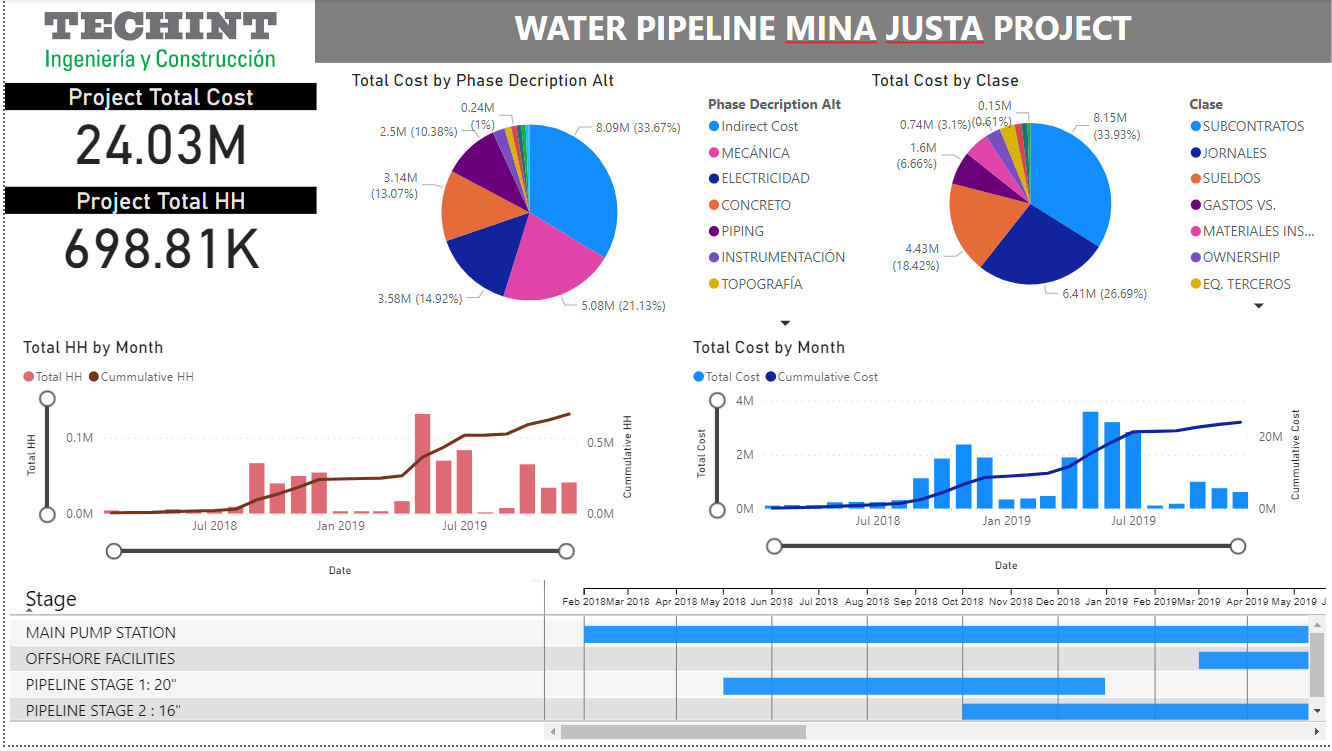

The page's visual inventory and layout, read from the dashboard file:
{"tool":"powerbi","page":{"name":"Executive Report","canvas":[1280,720],"ordinal":0},"visuals":[{"type":"pieChart","fields":{"Y":["MJ_Entries.Total Cost"],"Category":["MJ_Phases.Phase Decription Alt"]},"box":[329.2,67.5,501.7,258.1],"z":0},{"type":"pieChart","fields":{"Y":["MJ_Entries.Total Cost"],"Category":["MJ_Items.Clase"]},"box":[831,67.5,448.6,241.2],"z":1000},{"type":"card","title":"Project Total Cost","fields":{"Values":["MJ_Entries.Total Cost"]},"box":[0,81,300.8,100.3],"z":2000},{"type":"GanttChartByMAQSoftware1448688115701","fields":{"EndDate":["Min(MJ_Schedule.Fecha Fin)"],"StartDate":["Min(MJ_Schedule.Fecha Inicio)"],"Category":["MJ_Schedule.Stage"]},"box":[0,525.8,1279.6,194.2],"z":3000},{"type":"card","title":"Project Total HH","fields":{"Values":["MJ_Entries.Total HH"]},"box":[0,181.3,300.8,100.3],"z":4000},{"type":"lineClusteredColumnComboChart","title":"Total HH by Month","fields":{"Category":["MJ_Calendar.Fecha"],"Y":["MJ_Entries.Total HH"],"Y2":["MJ_Entries.Cummulative HH"]},"box":[12.1,325.6,599.4,235.2],"z":5000},{"type":"lineClusteredColumnComboChart","title":"Total Cost by Month","fields":{"Category":["MJ_Calendar.Fecha"],"Y":["MJ_Entries.Total Cost"],"Y2":["MJ_Entries.Cummulative Cost"]},"box":[658.5,325.6,598.2,230.4],"z":6000},{"type":"image","box":[0,0,299.4,81],"z":7000},{"type":"textbox","box":[299.1,0,980.5,61.5],"z":8000}]}

Visuals, with their boxes in screenshot pixels (x1, y1, x2, y2), scaled from the page's 1280x720 canvas onto the 1332x751 screenshot:
pieChart - MJ_Entries.Total Cost x MJ_Phases.Phase Decription Alt: pyautogui.locateOnScreen(343, 70, 865, 340)
pieChart - MJ_Entries.Total Cost x MJ_Items.Clase: pyautogui.locateOnScreen(865, 70, 1331, 322)
"Project Total Cost" card: pyautogui.locateOnScreen(0, 84, 313, 189)
GanttChartByMAQSoftware1448688115701 - Min(MJ_Schedule.Fecha Fin) x Min(MJ_Schedule.Fecha Inicio): pyautogui.locateOnScreen(0, 548, 1331, 750)
"Project Total HH" card: pyautogui.locateOnScreen(0, 189, 313, 294)
"Total HH by Month" lineClusteredColumnComboChart: pyautogui.locateOnScreen(13, 340, 636, 585)
"Total Cost by Month" lineClusteredColumnComboChart: pyautogui.locateOnScreen(685, 340, 1308, 580)
image: pyautogui.locateOnScreen(0, 0, 312, 84)
textbox: pyautogui.locateOnScreen(311, 0, 1331, 64)
